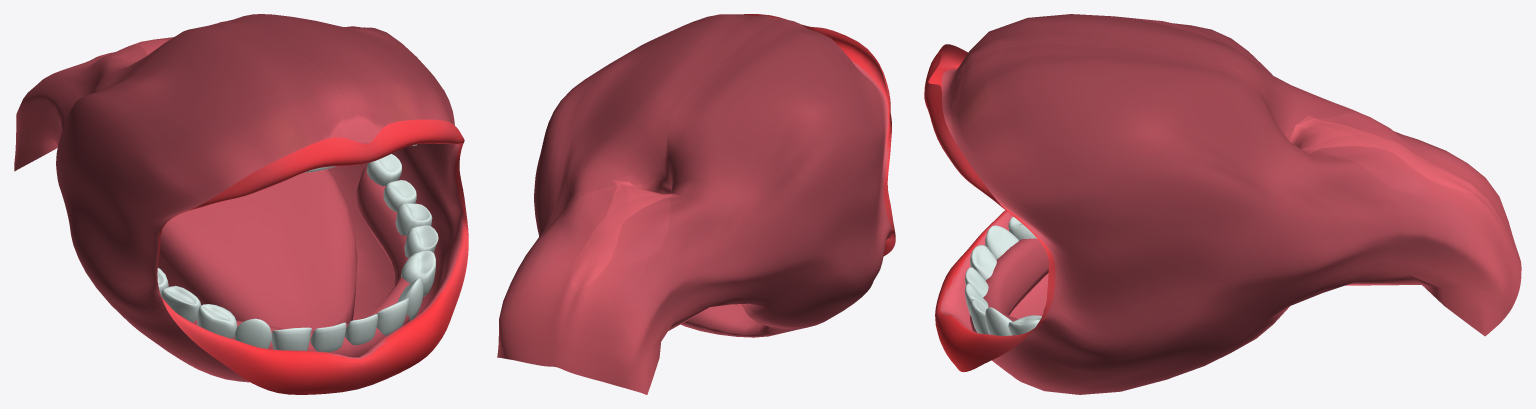
File: BOCAFIN.fbx
3 renders of one model, left to right at view 1: azimuth 30°, elevation 25°; view 2: azimuth 150°, elevation 25°; view 3: azimuth 270°, elevation 25°, orthographic. The views are drawn at different scales.
Parts seen in each view (by area): view 1: Plane.000; view 2: Plane.000; view 3: Plane.000.
Part boxes in pixels (left/top/right/bottom): Plane.000: left=14, top=14, right=468, bottom=394; Plane.000: left=497, top=14, right=895, bottom=394; Plane.000: left=924, top=14, right=1521, bottom=394.
Bounding box in the file's own units: 326 × 292 × 480.
